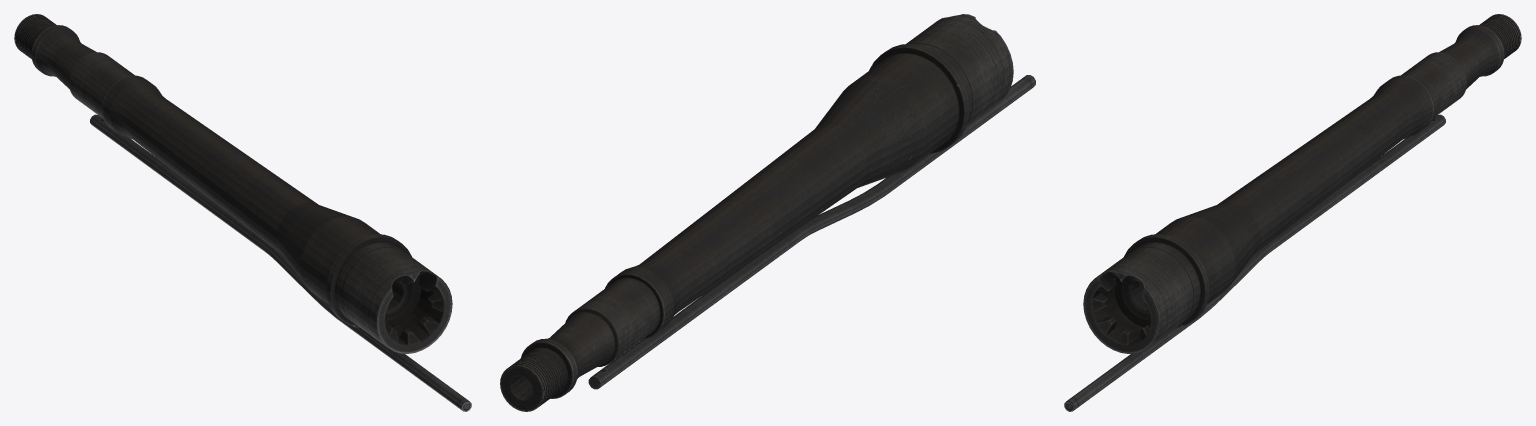
3 views of the same model, side by side, from view 1: azimuth 30°, elevation 25°; view 2: azimuth 150°, elevation 25°; view 3: azimuth 330°, elevation 25° (orthographic). The views are drawn at different scales.
Parts seen in each view (by area): view 1: TW_60658776f2cb2e02a42ace2b_PZ_Import; view 2: TW_60658776f2cb2e02a42ace2b_PZ_Import; view 3: TW_60658776f2cb2e02a42ace2b_PZ_Import.
Part boxes in pixels (x1,y1,x2,y2): TW_60658776f2cb2e02a42ace2b_PZ_Import: (14, 14, 471, 411); TW_60658776f2cb2e02a42ace2b_PZ_Import: (500, 14, 1035, 411); TW_60658776f2cb2e02a42ace2b_PZ_Import: (1064, 14, 1521, 411).
Size of the model in its own units: 0.0199 by 0.1772 by 0.0236.
Materials: 1 (1 with a texture image).
